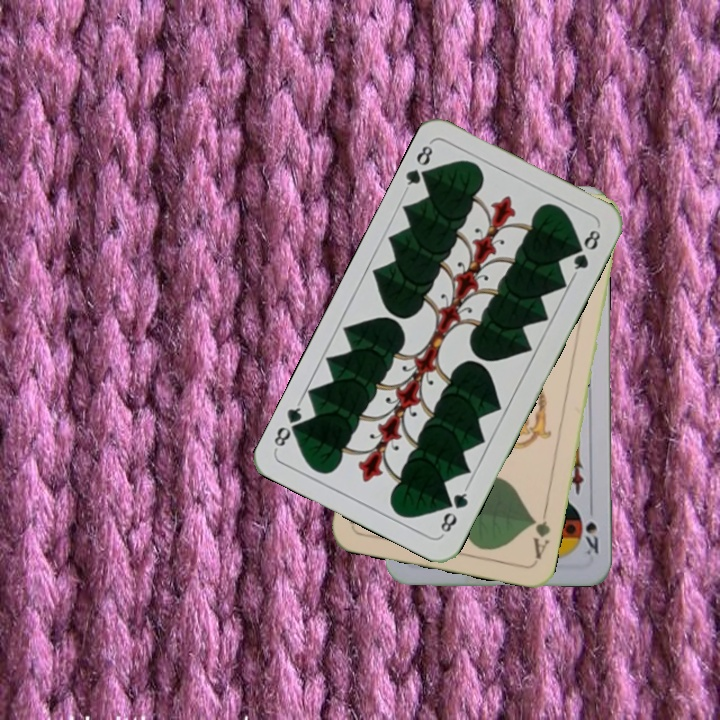G8: (400, 139, 437, 194), (436, 483, 471, 538)
GA: (528, 504, 553, 562)
SK: (580, 501, 601, 558)
